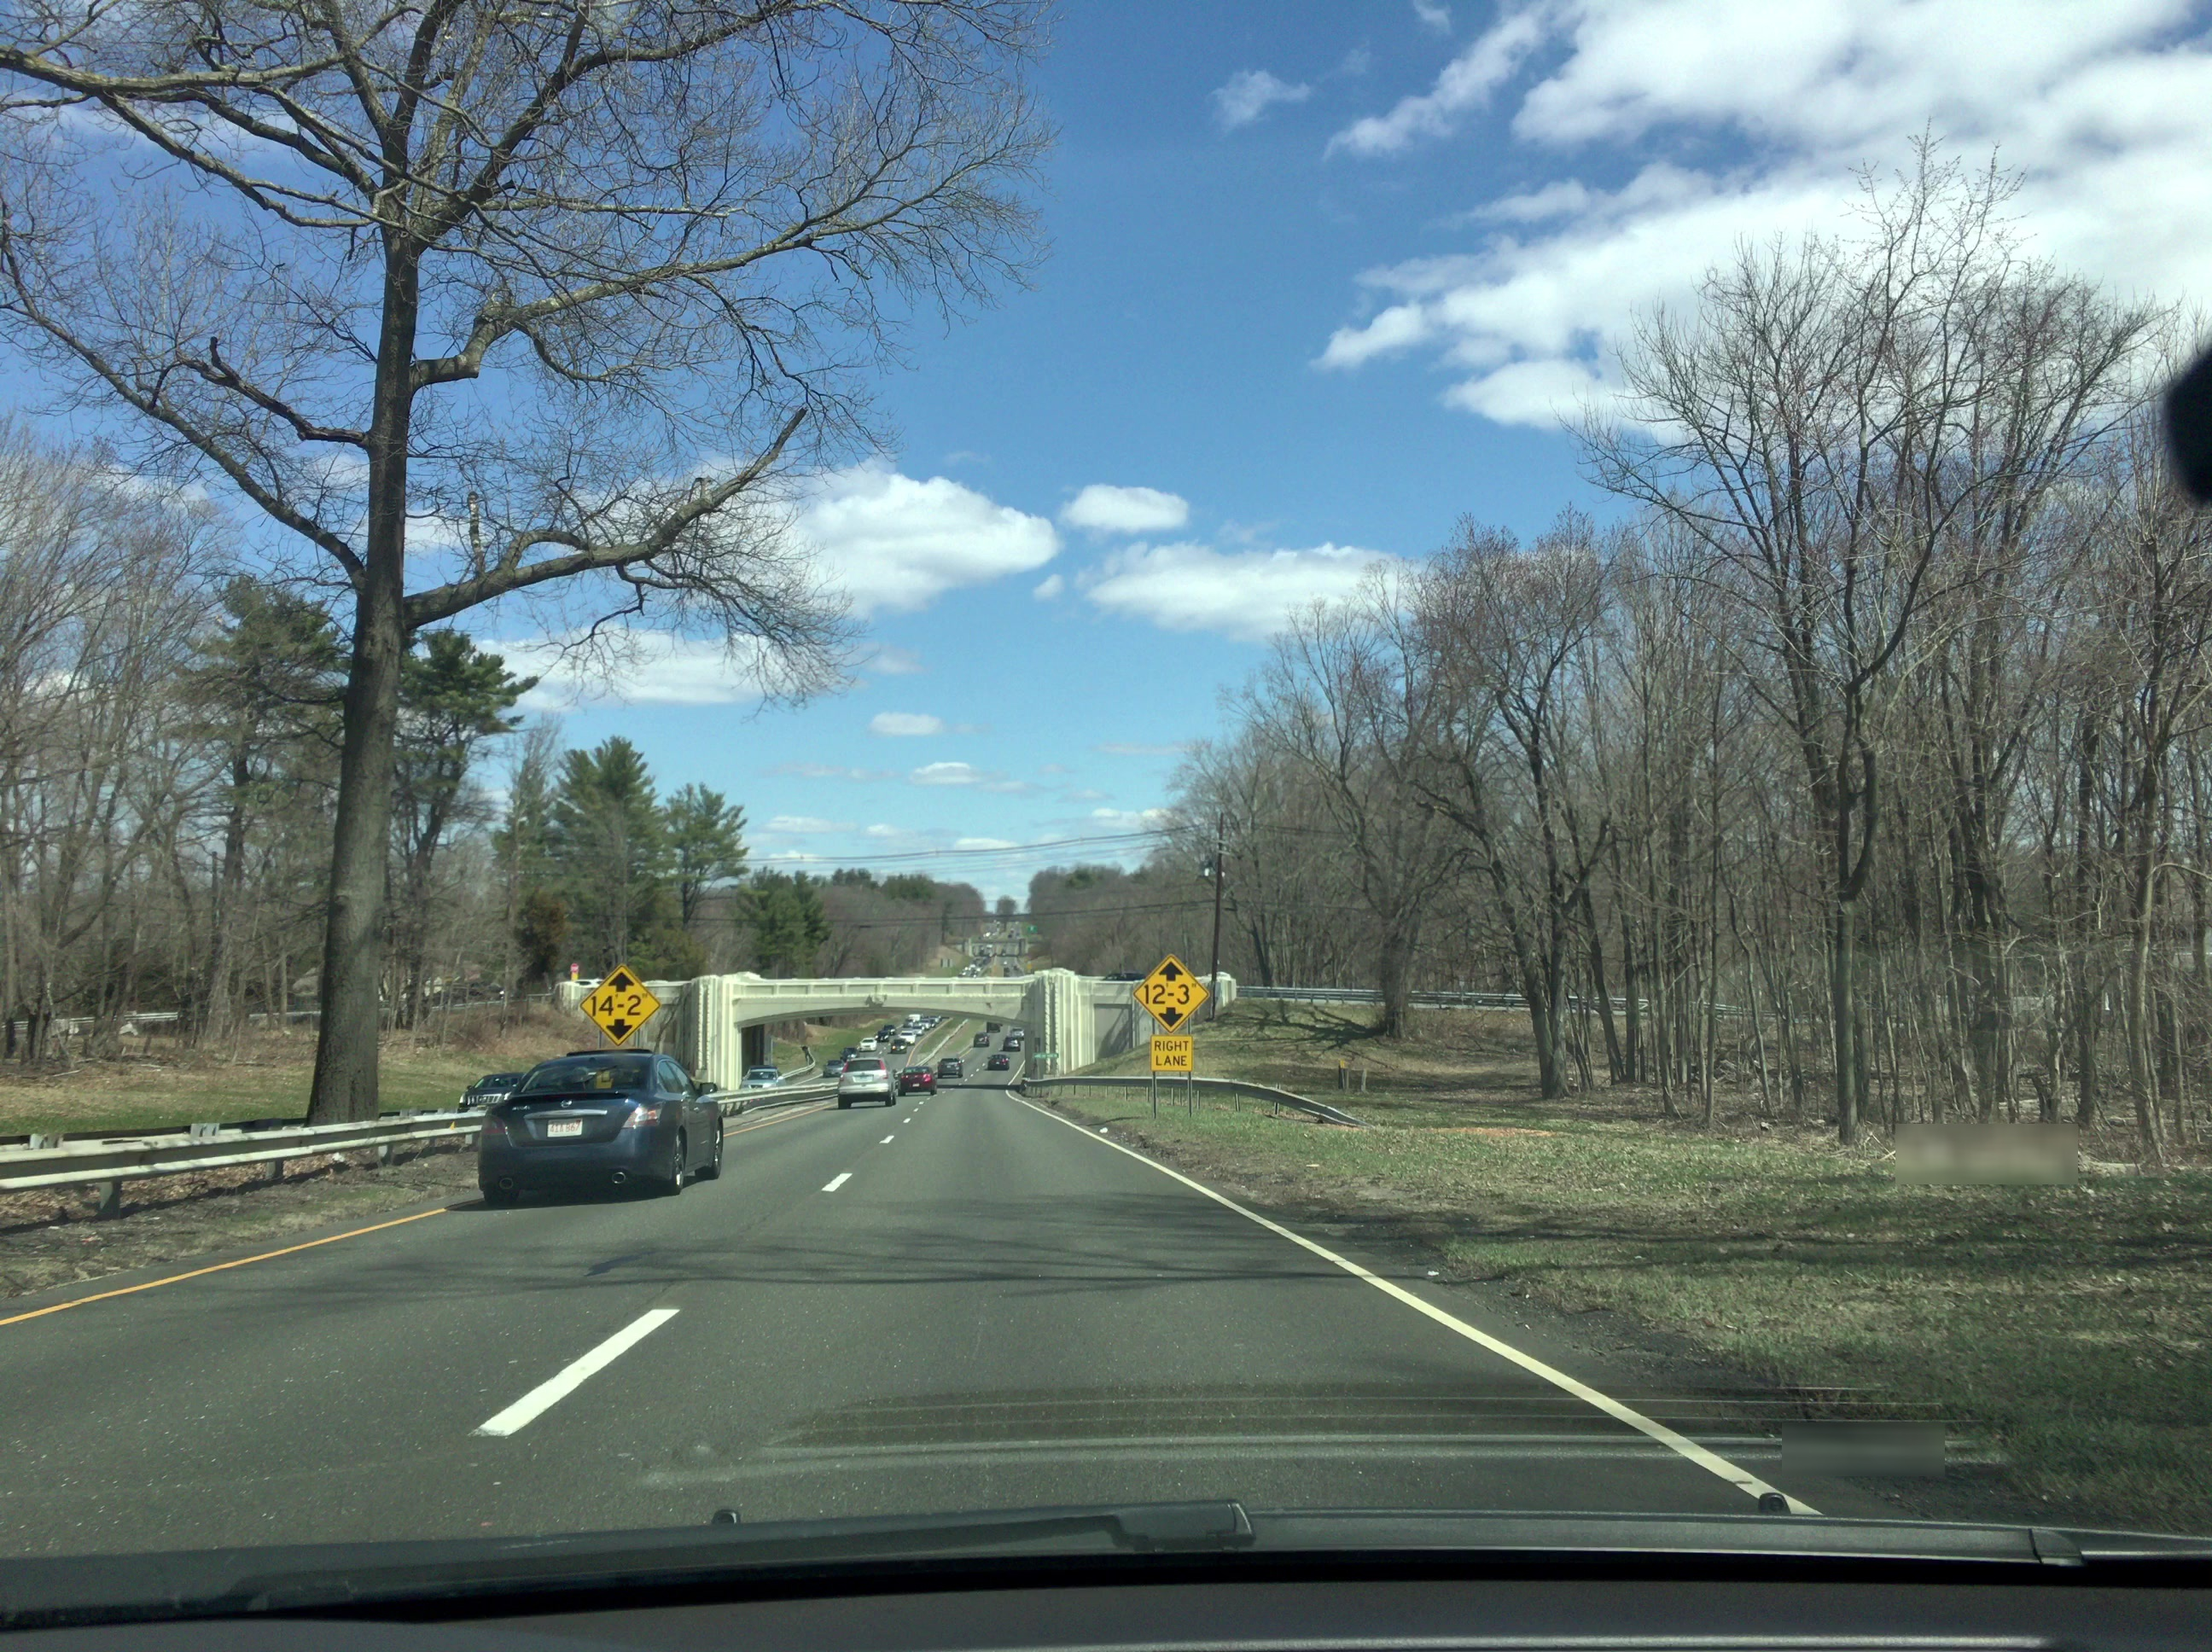low-clearance-sign: (579, 963, 661, 1046), (1133, 953, 1211, 1034)
